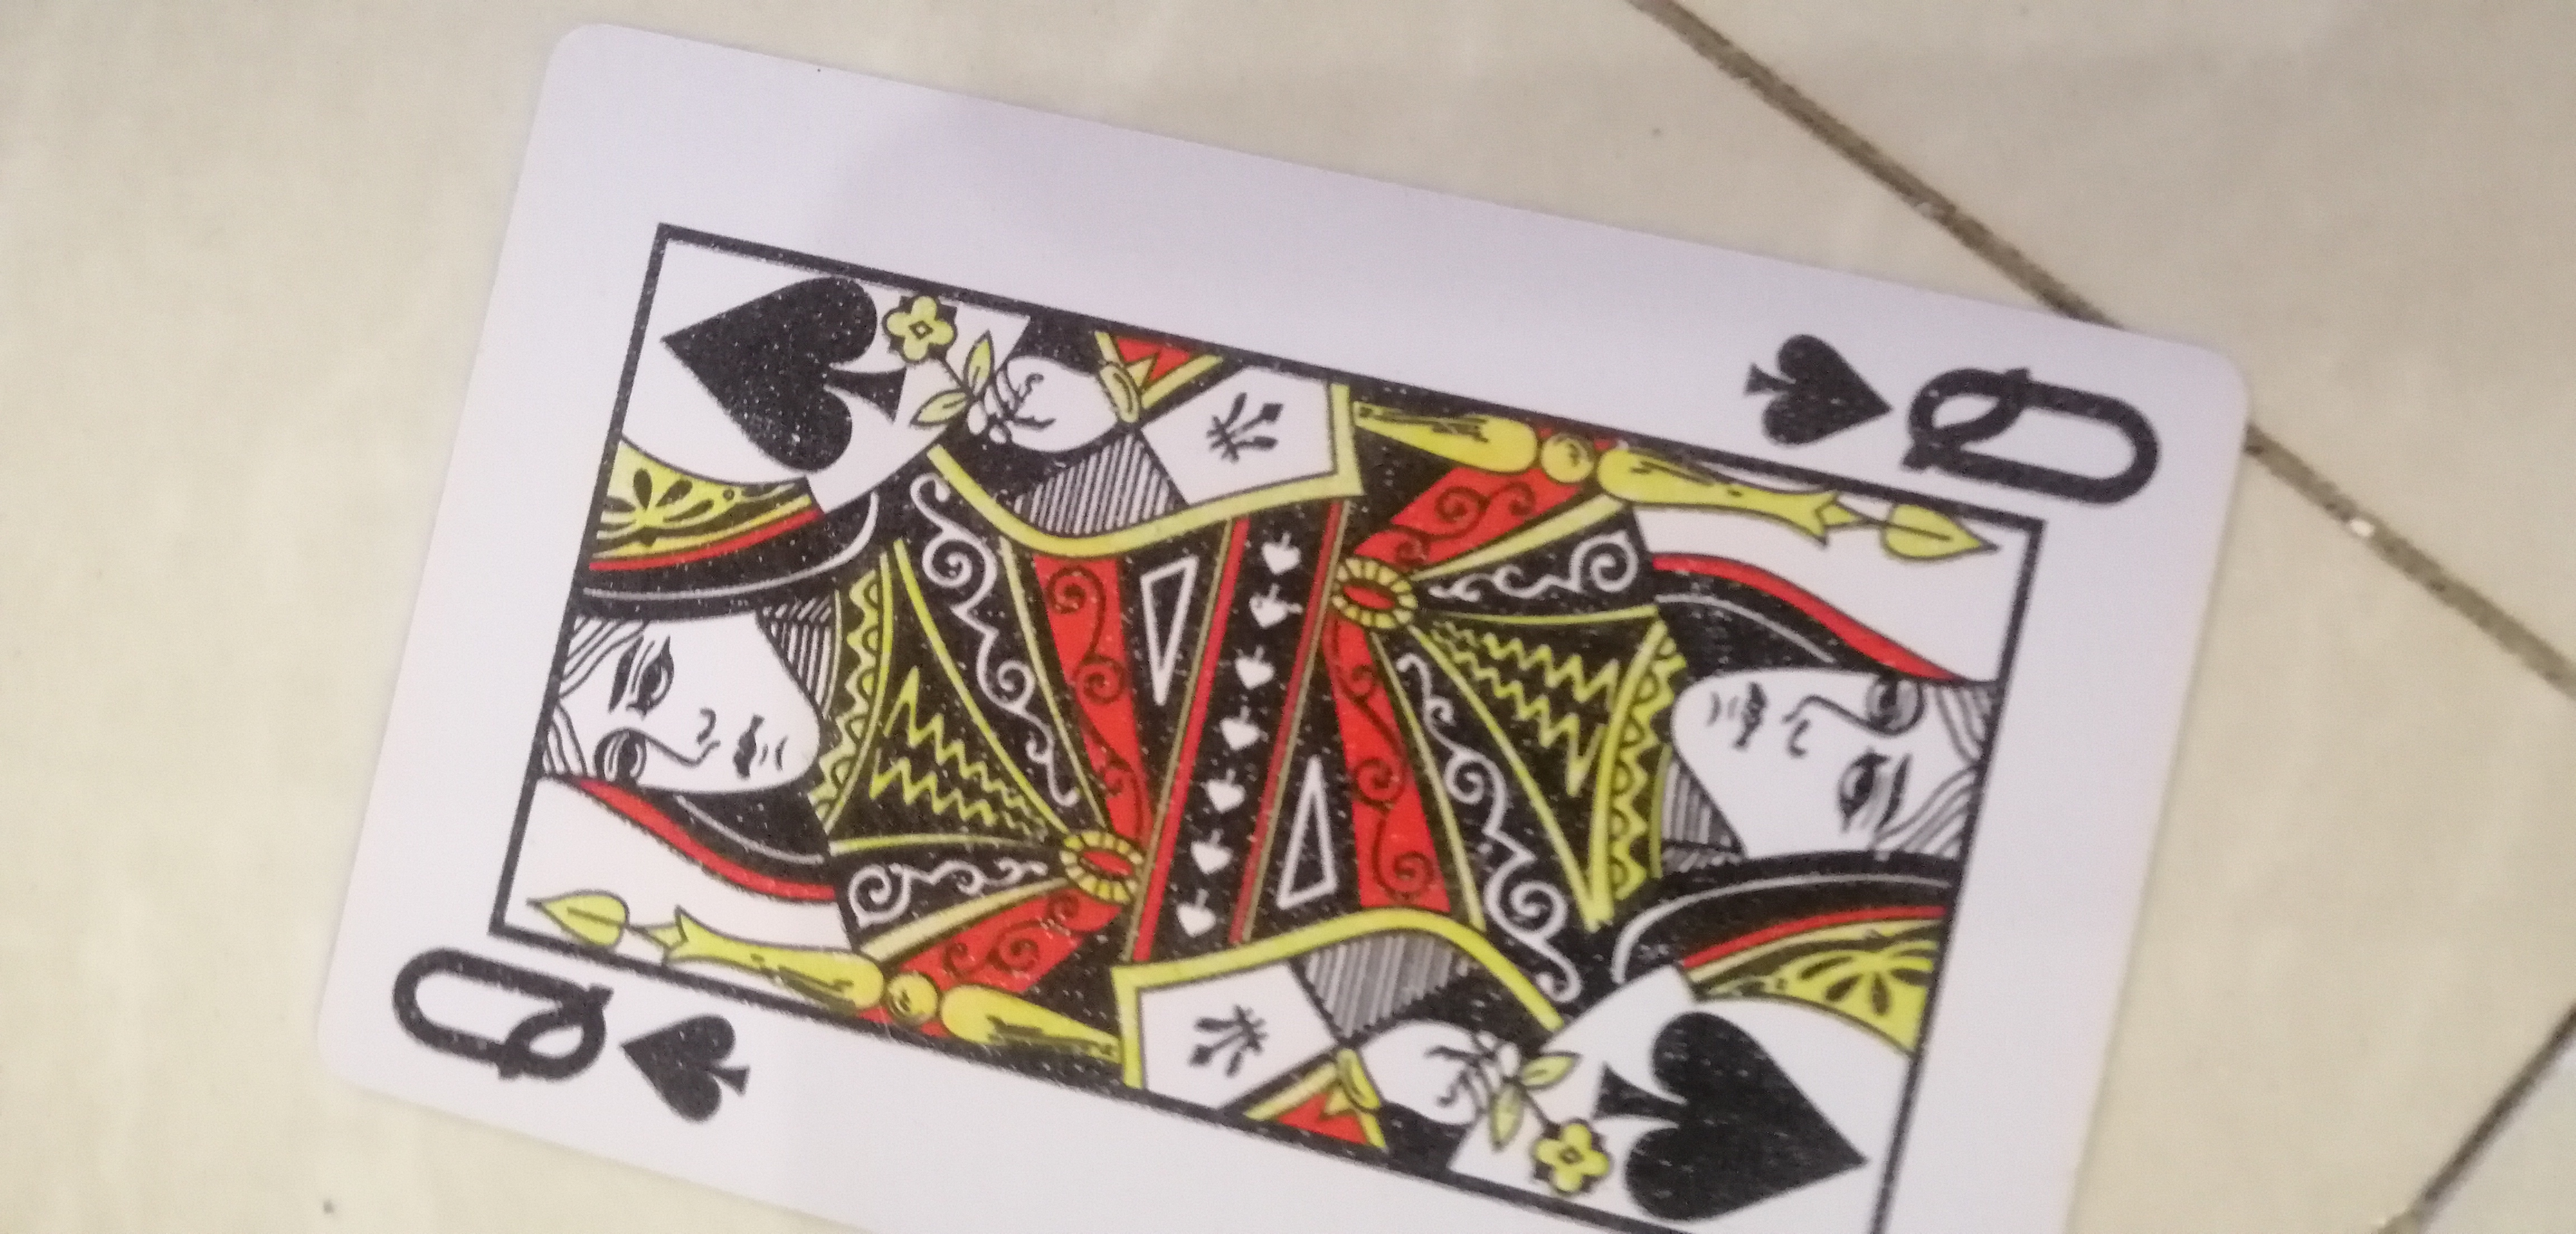queen: (396, 35, 2215, 1234)
